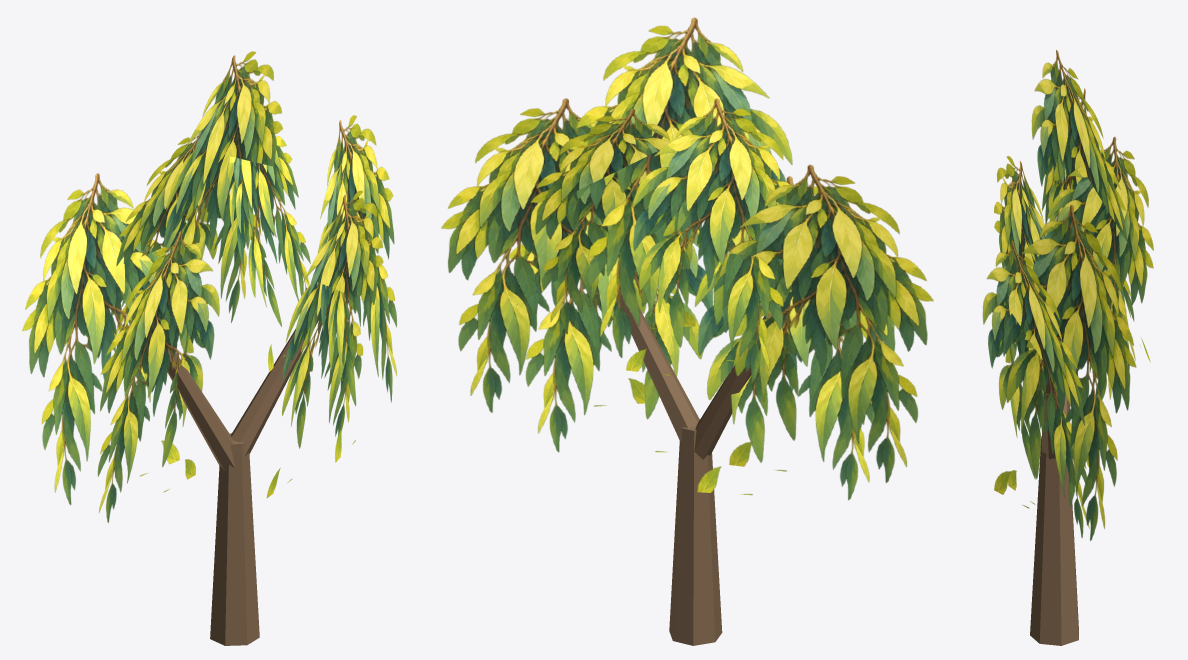
File: TREE_NATIVE_ROUNDED_001_SHAPE_SAFE_LOD_GAMEPLAY.glb
3 renders of one model, left to right at view 1: azimuth 30°, elevation 25°; view 2: azimuth 150°, elevation 25°; view 3: azimuth 270°, elevation 25°, orthographic. The views are drawn at different scales.
Visible parts, largest first — view 1: GG_NATIVE_SHAPE_SAFE_CARD_03, GG_NATIVE_SHAPE_SAFE_CARD_04, GG_NATIVE_SHAPE_SAFE_CARD_00, GG_NATIVE_SHAPE_SAFE_CARD_06, GG_NATIVE_SHAPE_SAFE_CARD_05, GG_NATIVE_V4_LOCKED_CARCASS_00, GG_NATIVE_SHAPE_SAFE_CARD_02, GG_NATIVE_SHAPE_SAFE_CARD_01, GG_NATIVE_V4_LOCKED_CARCASS_01, GG_NATIVE_V4_LOCKED_CARCASS_02; view 2: GG_NATIVE_SHAPE_SAFE_CARD_03, GG_NATIVE_SHAPE_SAFE_CARD_01, GG_NATIVE_SHAPE_SAFE_CARD_00, GG_NATIVE_SHAPE_SAFE_CARD_05, GG_NATIVE_SHAPE_SAFE_CARD_02, GG_NATIVE_SHAPE_SAFE_CARD_06, GG_NATIVE_SHAPE_SAFE_CARD_04, GG_NATIVE_V4_LOCKED_CARCASS_00, GG_NATIVE_V4_LOCKED_CARCASS_02, GG_NATIVE_V4_LOCKED_CARCASS_01; view 3: GG_NATIVE_SHAPE_SAFE_CARD_05, GG_NATIVE_SHAPE_SAFE_CARD_06, GG_NATIVE_SHAPE_SAFE_CARD_00, GG_NATIVE_SHAPE_SAFE_CARD_02, GG_NATIVE_V4_LOCKED_CARCASS_00, GG_NATIVE_SHAPE_SAFE_CARD_04, GG_NATIVE_SHAPE_SAFE_CARD_03, GG_NATIVE_V4_LOCKED_CARCASS_02.
Boxes of the visible parts, <box> form: GG_NATIVE_SHAPE_SAFE_CARD_03: <box>22,173,179,504</box>; GG_NATIVE_SHAPE_SAFE_CARD_04: <box>97,231,219,522</box>; GG_NATIVE_SHAPE_SAFE_CARD_00: <box>147,51,282,376</box>; GG_NATIVE_SHAPE_SAFE_CARD_06: <box>266,190,383,498</box>; GG_NATIVE_SHAPE_SAFE_CARD_05: <box>317,115,396,462</box>; GG_NATIVE_V4_LOCKED_CARCASS_00: <box>210,433,259,645</box>; GG_NATIVE_SHAPE_SAFE_CARD_02: <box>227,136,310,371</box>; GG_NATIVE_SHAPE_SAFE_CARD_01: <box>111,131,229,345</box>; GG_NATIVE_V4_LOCKED_CARCASS_01: <box>167,348,234,470</box>; GG_NATIVE_V4_LOCKED_CARCASS_02: <box>231,315,318,456</box>; GG_NATIVE_SHAPE_SAFE_CARD_03: <box>718,164,933,482</box>; GG_NATIVE_SHAPE_SAFE_CARD_01: <box>626,98,790,384</box>; GG_NATIVE_SHAPE_SAFE_CARD_00: <box>569,17,792,361</box>; GG_NATIVE_SHAPE_SAFE_CARD_05: <box>441,98,646,412</box>; GG_NATIVE_SHAPE_SAFE_CARD_02: <box>530,108,701,334</box>; GG_NATIVE_SHAPE_SAFE_CARD_06: <box>508,225,713,452</box>; GG_NATIVE_SHAPE_SAFE_CARD_04: <box>695,176,895,500</box>; GG_NATIVE_V4_LOCKED_CARCASS_00: <box>669,419,722,645</box>; GG_NATIVE_V4_LOCKED_CARCASS_02: <box>616,290,699,440</box>; GG_NATIVE_V4_LOCKED_CARCASS_01: <box>694,313,771,459</box>; GG_NATIVE_SHAPE_SAFE_CARD_05: <box>994,205,1136,540</box>; GG_NATIVE_SHAPE_SAFE_CARD_06: <box>982,240,1089,537</box>; GG_NATIVE_SHAPE_SAFE_CARD_00: <box>1031,50,1135,369</box>; GG_NATIVE_SHAPE_SAFE_CARD_02: <box>1045,137,1153,399</box>; GG_NATIVE_V4_LOCKED_CARCASS_00: <box>1030,436,1078,645</box>; GG_NATIVE_SHAPE_SAFE_CARD_04: <box>994,156,1089,467</box>; GG_NATIVE_SHAPE_SAFE_CARD_03: <box>1042,88,1086,224</box>; GG_NATIVE_V4_LOCKED_CARCASS_02: <box>1042,378,1059,458</box>.
Size of the model in its own units: 32.41 by 41.89 by 13.39.
Materials: 2 (1 with a texture image).
